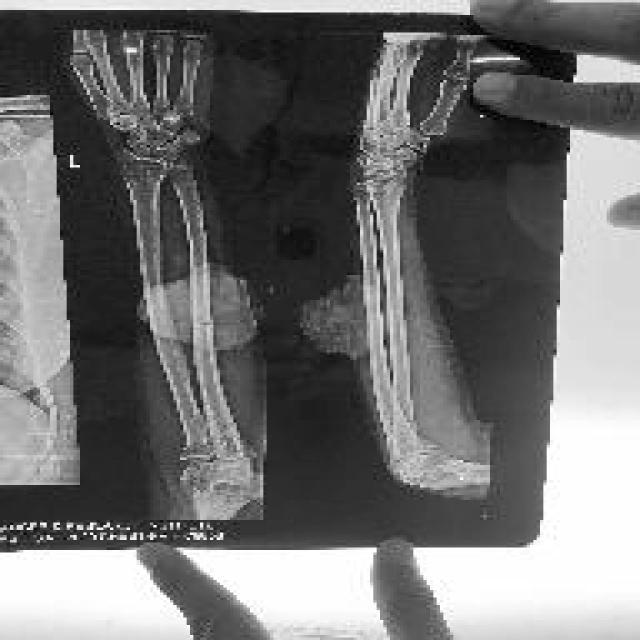bone-cancer: (138, 262, 258, 351), (300, 275, 382, 359)
